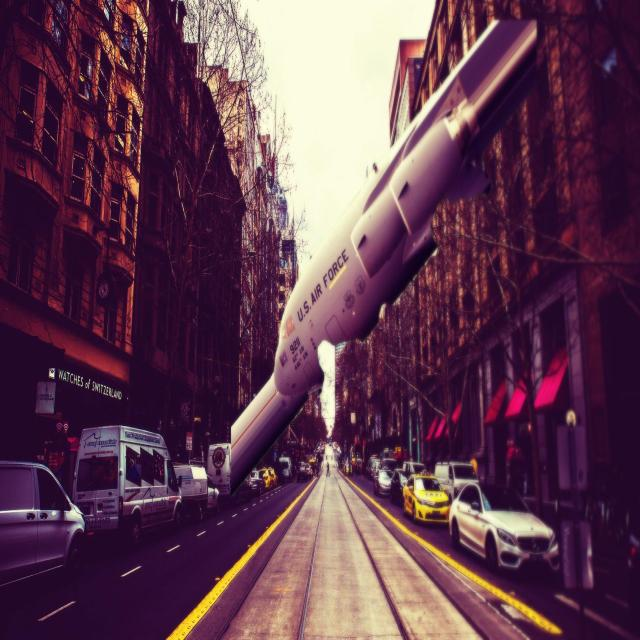airplane: (206, 16, 539, 505)
